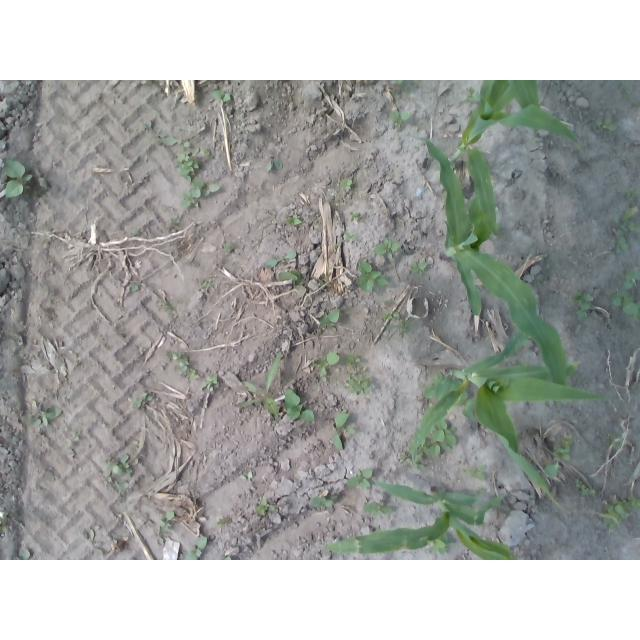Maize: (404, 128, 570, 407), (406, 332, 606, 514), (447, 80, 586, 241), (323, 477, 516, 560)
Weeds: (236, 353, 281, 418), (399, 419, 457, 469), (608, 270, 640, 323), (601, 495, 640, 530), (543, 437, 574, 480), (343, 353, 374, 395), (2, 158, 32, 198), (180, 180, 220, 209), (356, 261, 391, 294), (285, 389, 315, 424), (26, 401, 63, 428), (332, 411, 356, 452), (175, 148, 202, 182), (170, 350, 199, 381), (143, 120, 177, 146), (277, 270, 307, 299), (314, 352, 340, 384), (381, 309, 412, 335), (614, 206, 640, 235), (426, 530, 454, 555), (105, 453, 133, 477), (372, 236, 401, 259), (422, 372, 445, 401), (571, 289, 594, 317), (81, 528, 103, 556), (456, 391, 477, 420), (266, 251, 297, 269), (184, 537, 208, 560), (345, 468, 371, 489), (389, 109, 412, 131), (464, 462, 489, 482), (364, 500, 392, 516), (310, 494, 338, 509), (319, 309, 340, 328), (132, 392, 155, 409), (574, 478, 596, 495), (108, 479, 128, 497), (254, 499, 275, 516), (463, 86, 482, 104), (159, 511, 174, 533), (412, 260, 429, 278), (597, 117, 618, 131), (265, 157, 284, 172), (606, 433, 623, 449), (615, 236, 630, 253), (202, 376, 218, 391), (212, 90, 232, 102), (35, 167, 46, 187), (65, 436, 80, 449), (179, 137, 194, 149), (286, 215, 302, 226), (342, 230, 356, 242), (17, 548, 31, 560), (349, 211, 364, 222), (0, 512, 8, 532), (170, 217, 181, 231), (340, 179, 353, 190), (239, 470, 253, 480), (201, 279, 215, 288), (626, 190, 640, 198), (223, 244, 235, 253), (163, 302, 174, 310), (622, 91, 630, 101), (218, 518, 226, 527), (131, 284, 140, 292), (203, 148, 211, 157), (476, 487, 484, 495), (132, 229, 140, 236), (393, 80, 403, 85), (224, 556, 233, 561), (141, 80, 147, 85)
